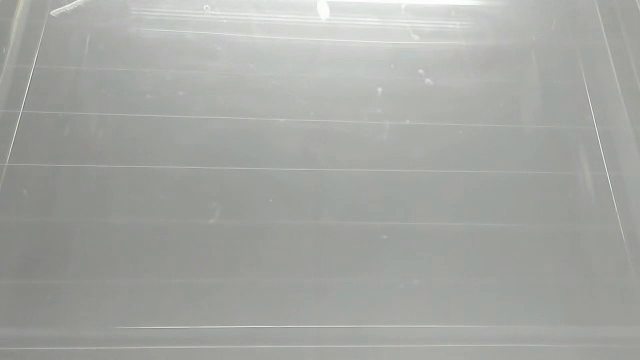alpha: (47, 1, 96, 18), (314, 1, 333, 23)
